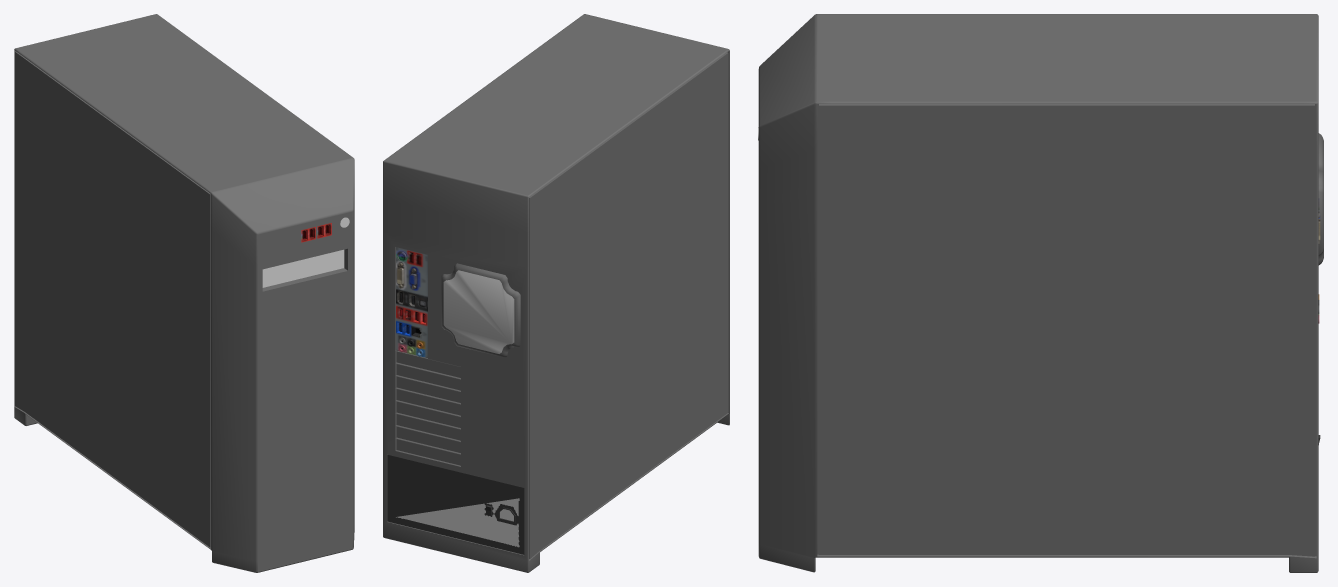
Rendered from PCOffice.fbx.
3 views of the same model, side by side, from view 1: azimuth 30°, elevation 25°; view 2: azimuth 150°, elevation 25°; view 3: azimuth 270°, elevation 25° (orthographic). The views are drawn at different scales.
Visible parts, largest first — view 1: PC; view 2: PC, PSU; view 3: PC.
Part boxes in pixels (x1,y1,x2,y2): PC: (14, 14, 354, 572); PC: (383, 14, 729, 572); PSU: (387, 455, 524, 554); PC: (758, 14, 1323, 572).
Size of what is drawn, in the model's own units: 17.89 by 44.12 by 48.02.
